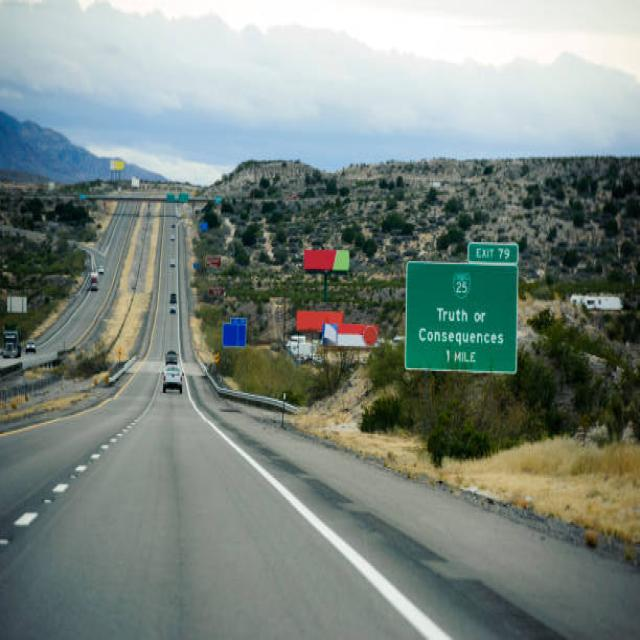Billboard_RHS: (395, 228, 535, 382)
Billboard_overhead_small: (302, 224, 352, 279), (296, 293, 344, 333), (221, 308, 252, 358), (180, 186, 191, 209), (166, 185, 178, 204)
Roadcorner: (179, 388, 459, 634), (3, 272, 166, 440), (62, 215, 136, 346)
Roadlane: (0, 377, 169, 558)
